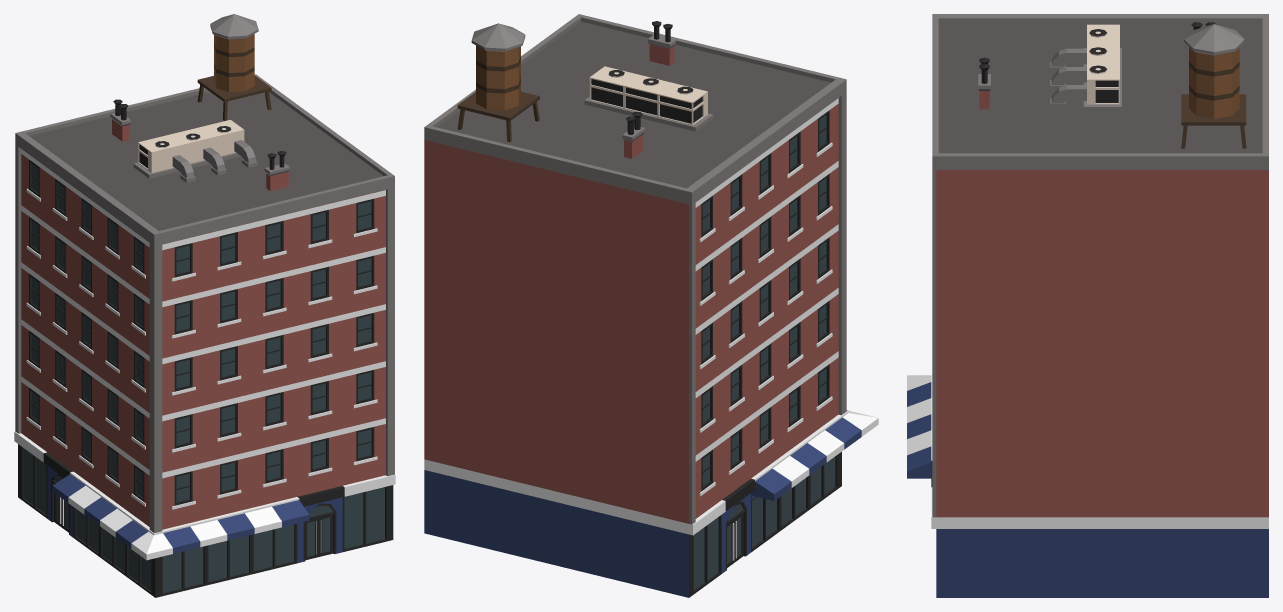
Rendered from buildings_building-block-5floor-corner.fbx.
The picture shows the model from 3 angles, left to right: view 1: azimuth 30°, elevation 25°; view 2: azimuth 150°, elevation 25°; view 3: azimuth 270°, elevation 25°; orthographic projection. The views are drawn at different scales.
Parts seen in each view (by area): view 1: buildings_building_block_5floor_corner; view 2: buildings_building_block_5floor_corner; view 3: buildings_building_block_5floor_corner.
Part boxes in pixels (x1,y1,x2,y2): buildings_building_block_5floor_corner: (14, 14, 395, 597); buildings_building_block_5floor_corner: (424, 14, 878, 597); buildings_building_block_5floor_corner: (907, 14, 1268, 597).
Bounding box in the file's own units: 120 × 200 × 120.
